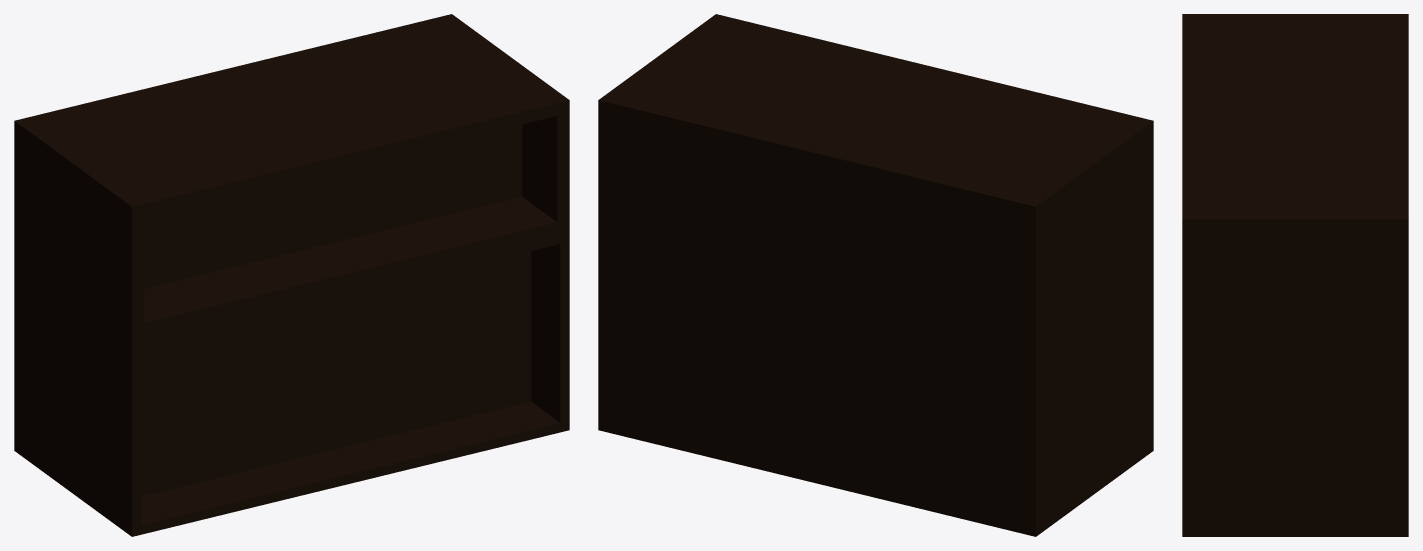
The model's file is Shelf_Low.fbx.
3 renders of one model, left to right at view 1: azimuth 30°, elevation 25°; view 2: azimuth 150°, elevation 25°; view 3: azimuth 270°, elevation 25°, orthographic. The views are drawn at different scales.
Visible parts, largest first — view 1: Shelf_Low; view 2: Shelf_Low; view 3: Shelf_Low.
Boxes of the visible parts, x1=… form: Shelf_Low: x1=14, y1=14, x2=569, y2=536; Shelf_Low: x1=598, y1=14, x2=1153, y2=536; Shelf_Low: x1=1182, y1=14, x2=1408, y2=536.
Bounding box in the file's own units: 14.31 × 10.32 × 6.66.
